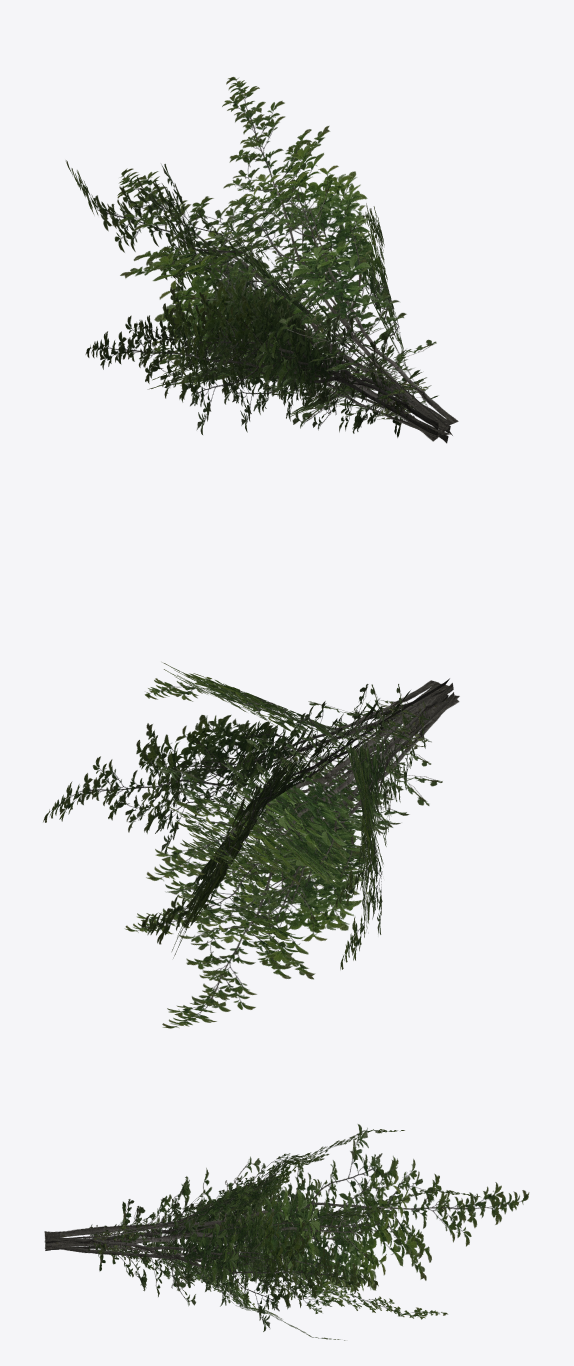
Rendered from tree_1.glb.
The picture shows the model from 3 angles, top to bottom: view 1: azimuth 30°, elevation 25°; view 2: azimuth 150°, elevation 25°; view 3: azimuth 270°, elevation 25°; orthographic projection. The views are drawn at different scales.
Visible parts, largest first — view 1: tree_1; view 2: tree_1; view 3: tree_1.
Part boxes in pixels (x1,y1,x2,y2): tree_1: [65, 77, 458, 443]; tree_1: [43, 662, 459, 1028]; tree_1: [44, 1124, 529, 1340].
Size of the model in its own units: 2.01 by 2.18 by 4.3.
Materials: 1 (1 with a texture image).
